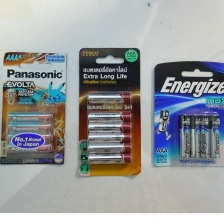battery: (196, 113, 214, 161), (177, 113, 194, 161), (4, 122, 55, 138), (205, 113, 221, 160), (6, 111, 55, 126), (85, 90, 133, 105), (188, 114, 203, 160), (85, 132, 134, 145), (5, 141, 53, 154), (84, 111, 135, 123), (84, 143, 134, 155), (3, 132, 56, 143), (84, 122, 135, 133), (84, 155, 134, 164)
book: (149, 58, 224, 169), (76, 46, 141, 174), (0, 49, 69, 168)
